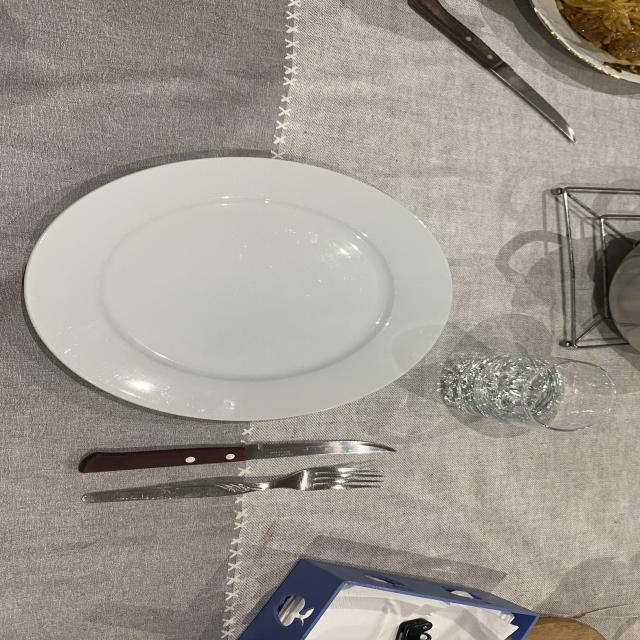fork: (83, 466, 383, 503)
knife: (408, 0, 575, 142), (79, 441, 394, 473)
plate: (25, 157, 452, 421)
water cup: (440, 355, 615, 430)
